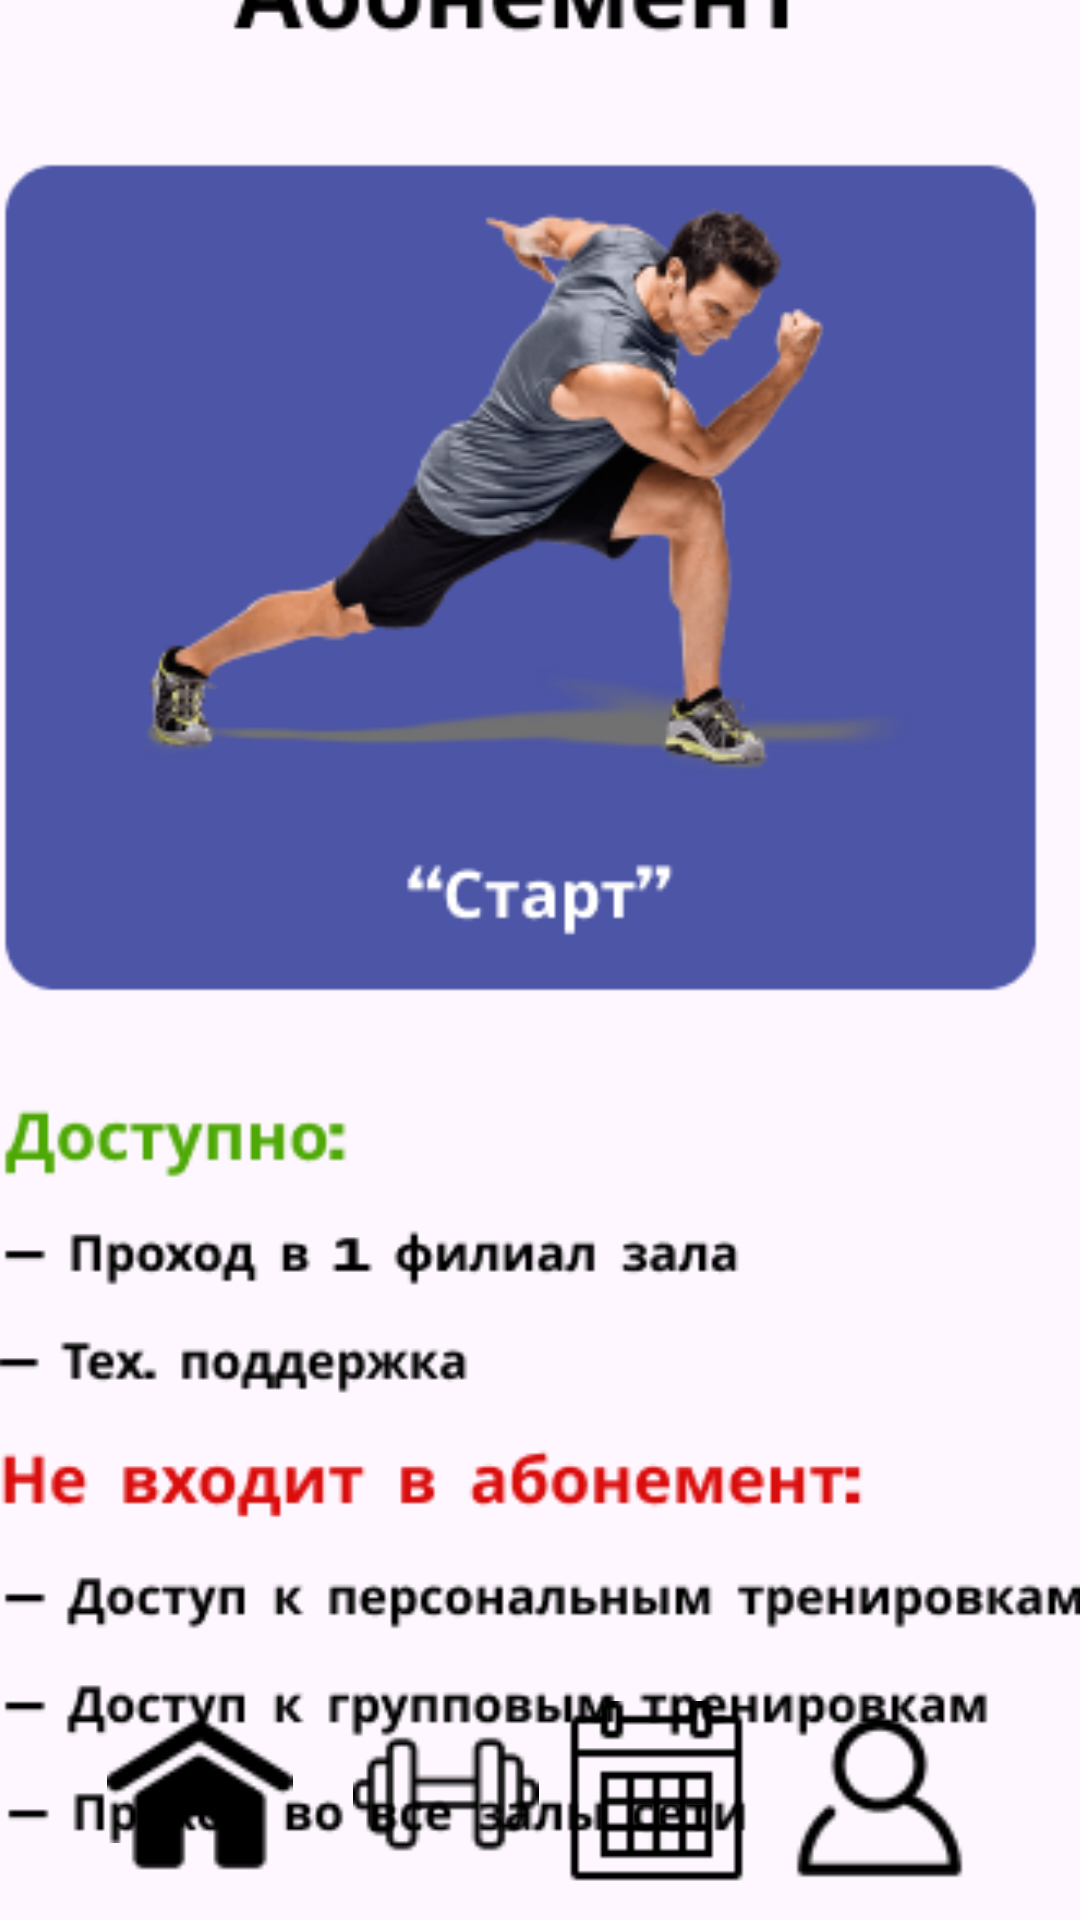

Named icons in this screenshot (1080 x 1920) and their centers, (x=x, y=y):
home: (x=208, y=1811)
profile: (x=853, y=1791)
schedule: (x=656, y=1791)
trener: (x=445, y=1794)
